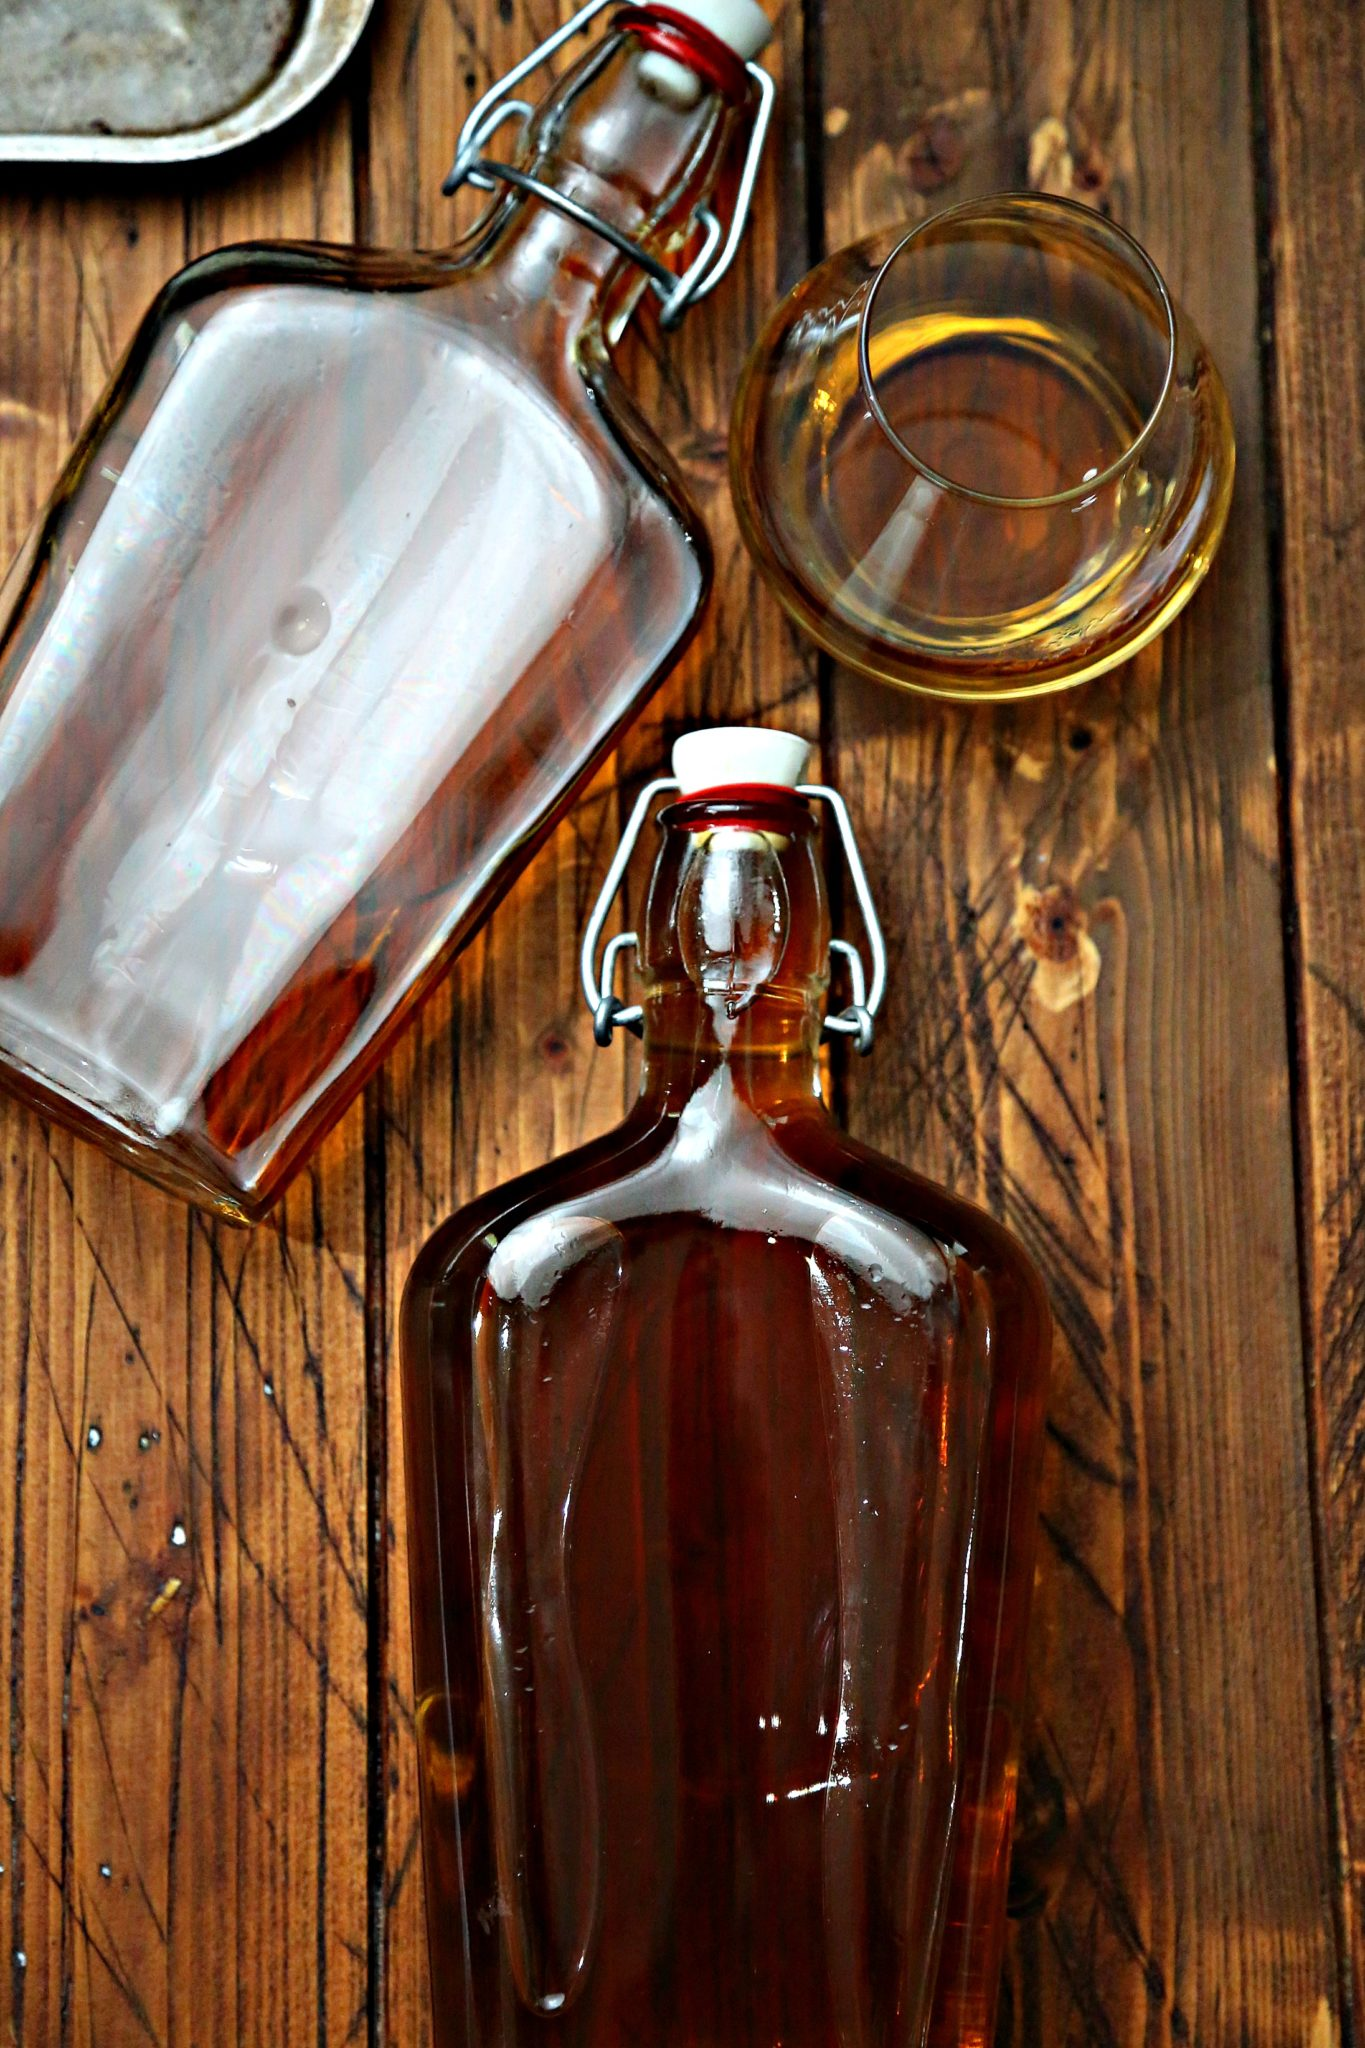glass_bottle: (401, 713, 1056, 2048)
